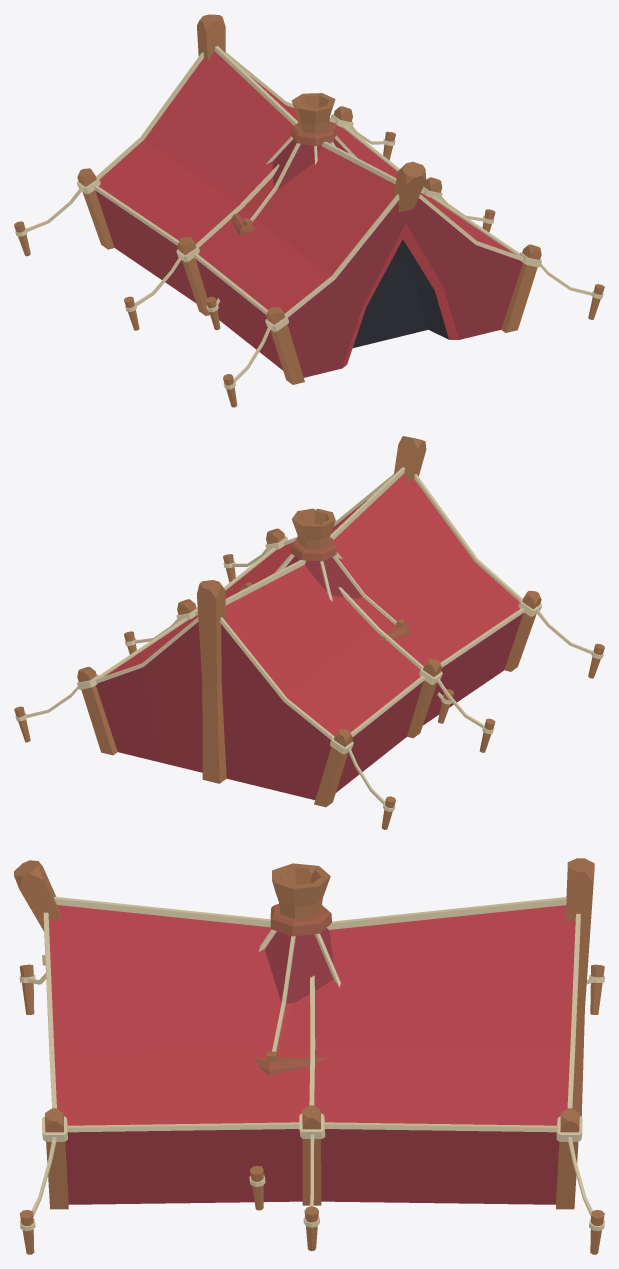
File: tents.glb
The picture shows the model from 3 angles, top to bottom: view 1: azimuth 30°, elevation 25°; view 2: azimuth 150°, elevation 25°; view 3: azimuth 270°, elevation 25°; orthographic projection. The views are drawn at different scales.
Visible parts, largest first — view 1: Building_Tent_House_02_Red, Building_Tent_House_03_Red; view 2: Building_Tent_House_02_Red, Building_Tent_House_03_Red; view 3: Building_Tent_House_02_Red, Building_Tent_House_03_Red.
Part boxes in pixels (<box>): Building_Tent_House_02_Red: <box>14,14,604,407</box>; Building_Tent_House_03_Red: <box>205,93,356,330</box>; Building_Tent_House_02_Red: <box>14,436,604,829</box>; Building_Tent_House_03_Red: <box>238,508,454,723</box>; Building_Tent_House_02_Red: <box>14,858,604,1254</box>; Building_Tent_House_03_Red: <box>249,863,340,1210</box>.
Bounding box in the file's own units: 4.21 × 2.1 × 4.15.
1 material, 1 textured.
